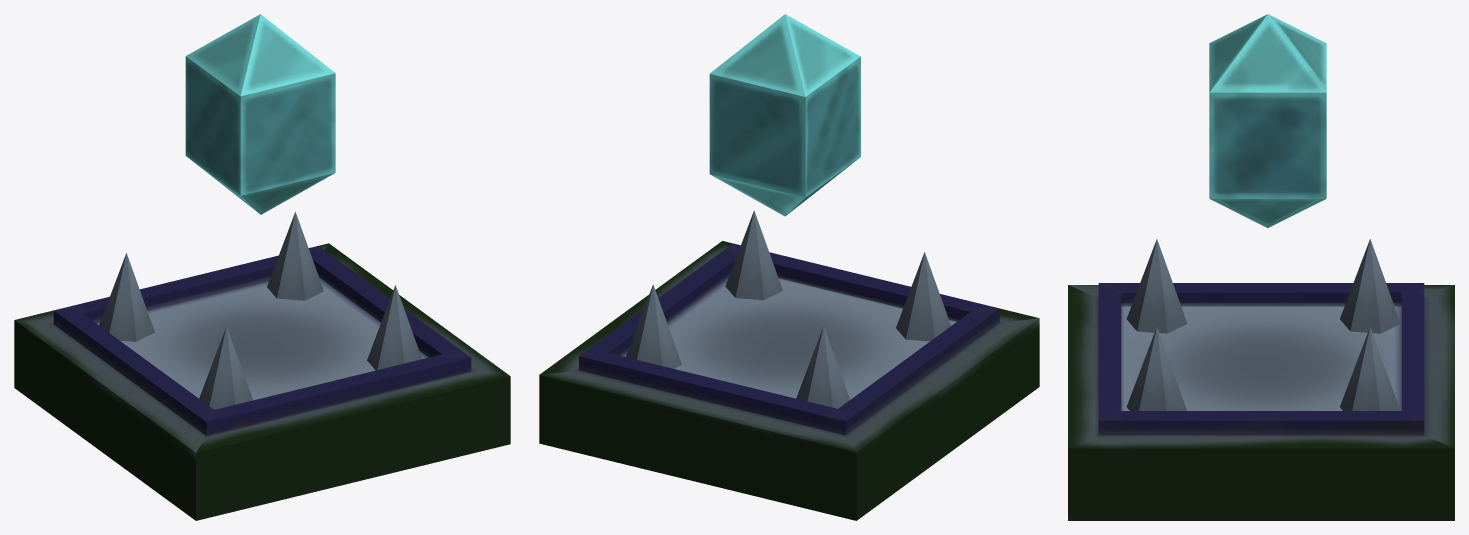
Rendered from SupportTowerF.fbx.
The picture shows the model from 3 angles, left to right: view 1: azimuth 30°, elevation 25°; view 2: azimuth 150°, elevation 25°; view 3: azimuth 270°, elevation 25°; orthographic projection. The views are drawn at different scales.
Parts seen in each view (by area): view 1: Torres.001; view 2: Torres.001; view 3: Torres.001.
Part boxes in pixels (box(x1,y1,x2,y2)): Torres.001: box(14, 14, 510, 520); Torres.001: box(539, 14, 1039, 520); Torres.001: box(1068, 14, 1454, 520).
Size of the model in its own units: 235 by 285 by 235.
1 material, 1 textured.
